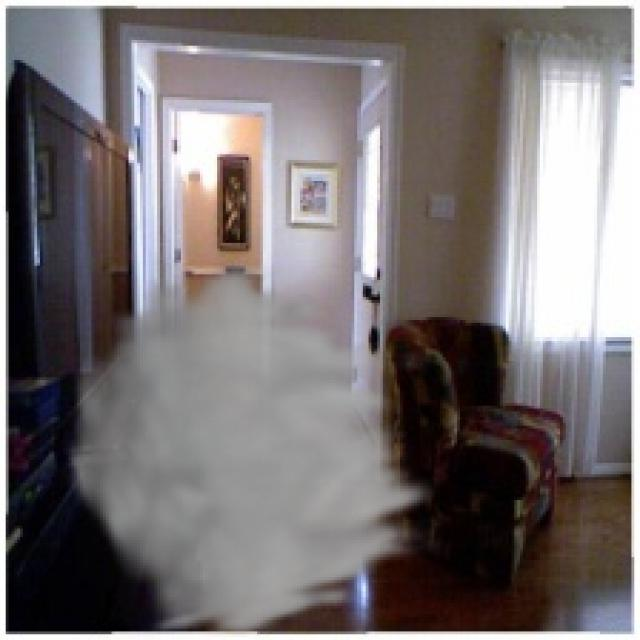smoke: (60, 257, 449, 637)
